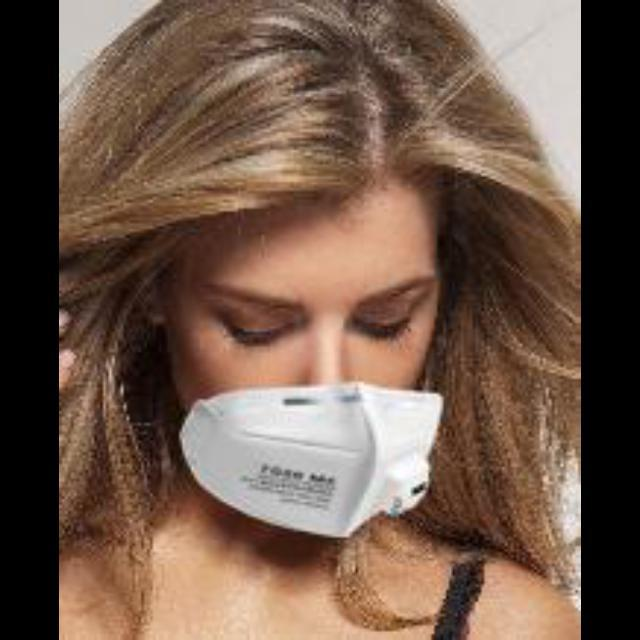suspicion: (131, 153, 489, 522)
